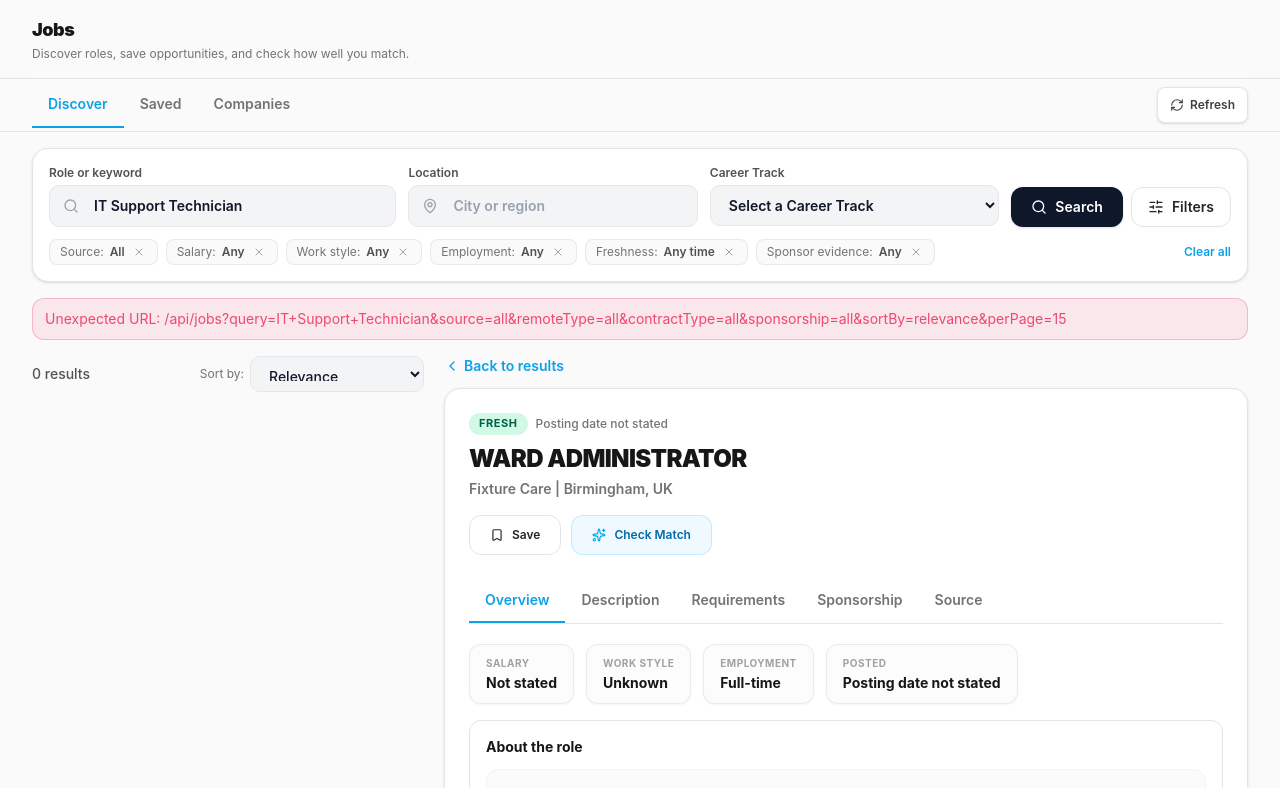
Test: vacancy sponsorship wording stays separate › renders as its own block and says it is not derived from register evidence
Click the tab "Sponsorship".
click(860, 601)  # box x1=801 y1=579 x2=919 y2=623
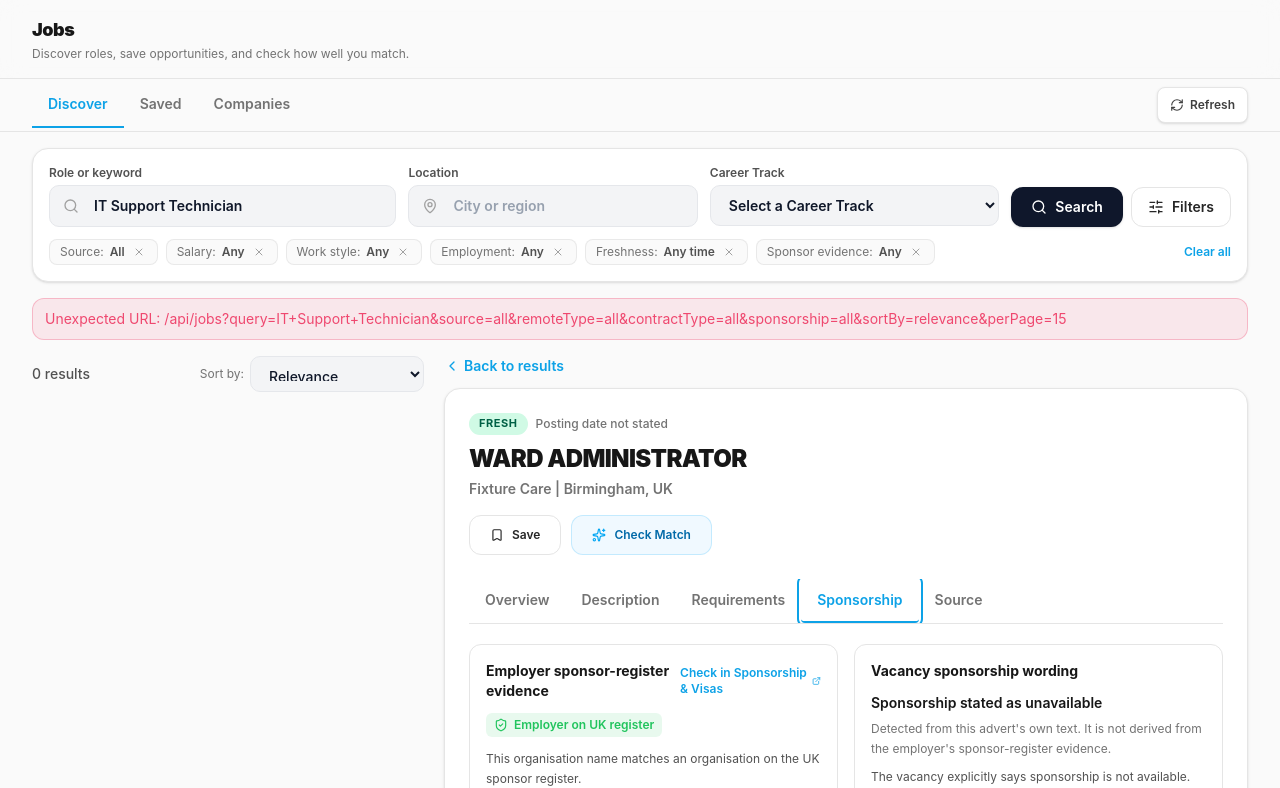
Expected: the heading "Vacancy sponsorship wording" is shown, x1=871 y1=661 x2=1078 y2=681
Expected: the text "Sponsorship stated as unavailable" is shown, x1=871 y1=694 x2=1102 y2=711
Expected: the text "not derived from the employer's sponsor-register evidence" is shown, x1=871 y1=721 x2=1202 y2=756
